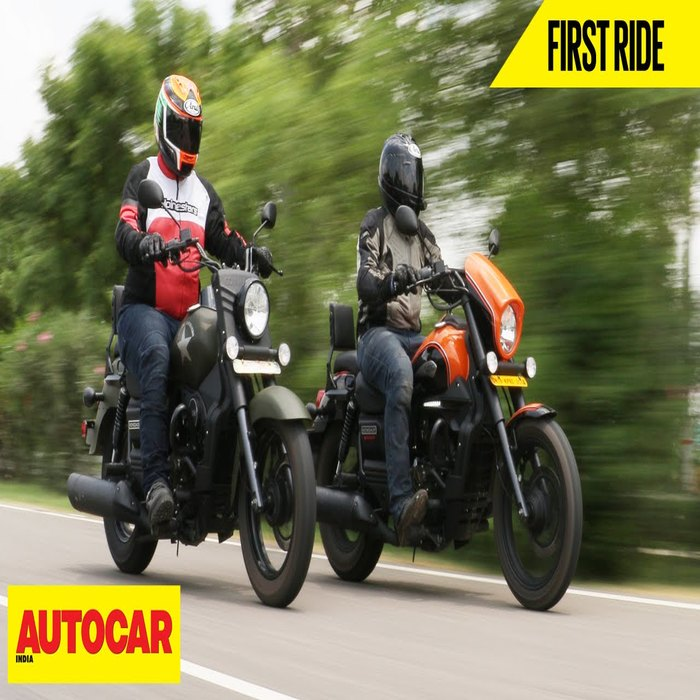h: (152, 74, 206, 182), (375, 132, 429, 215)
n: (231, 357, 284, 377), (487, 374, 529, 388)
